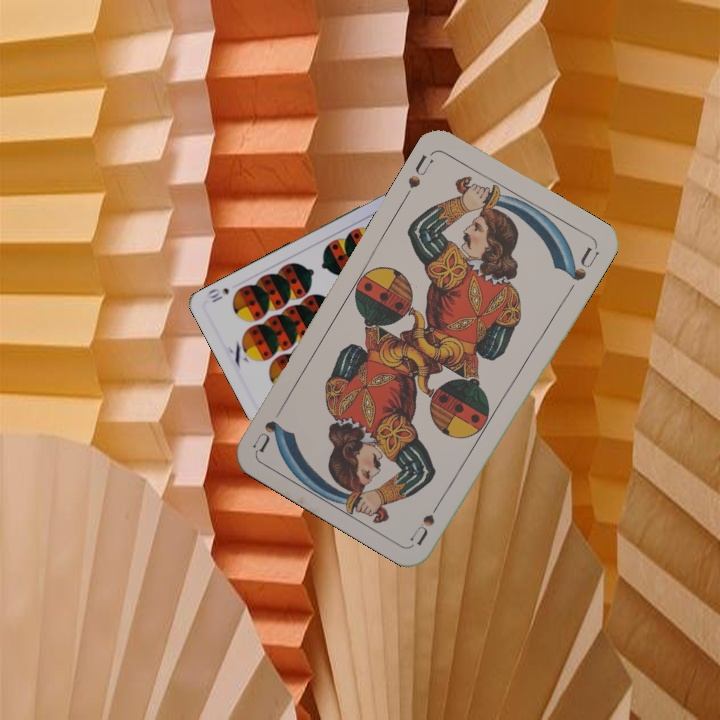SU: (406, 492, 447, 547), (400, 150, 436, 201)
